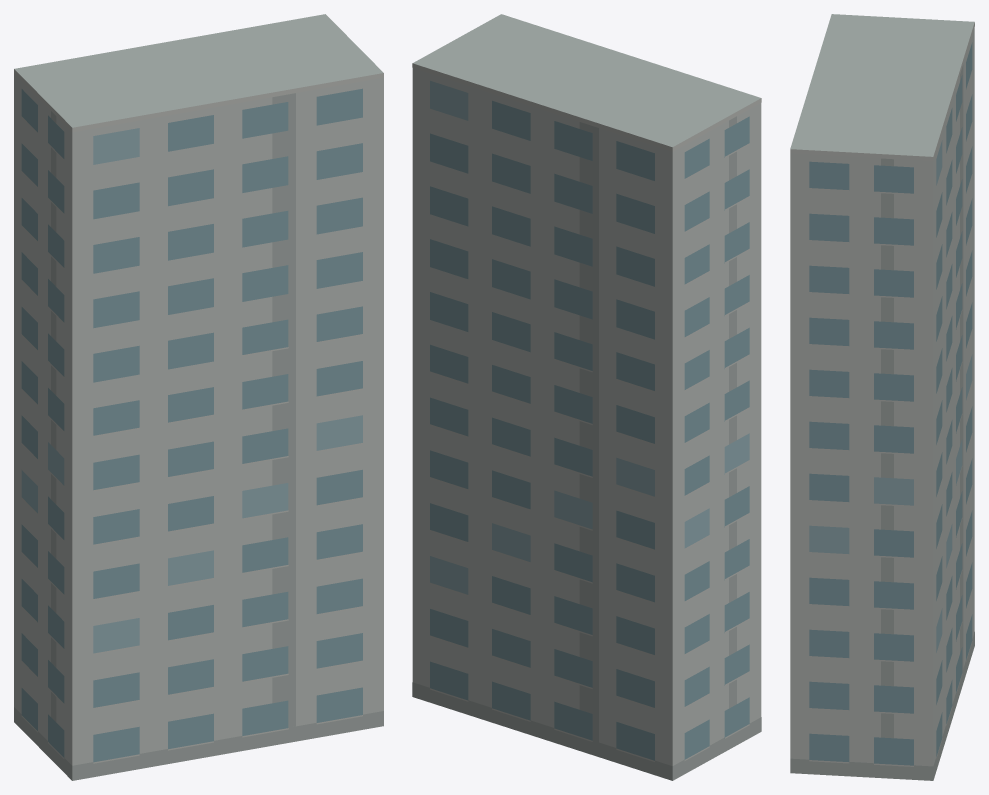
File: residential-b543431d-3fca-438f-bd01-aa3f8066cf87.glb
3 renders of one model, left to right at view 1: azimuth 30°, elevation 25°; view 2: azimuth 150°, elevation 25°; view 3: azimuth 270°, elevation 25°, orthographic. The views are drawn at different scales.
Parts seen in each view (by area): view 1: residential-b543431d-3fca-438f-bd01-aa3f8066cf87.tmp; view 2: residential-b543431d-3fca-438f-bd01-aa3f8066cf87.tmp; view 3: residential-b543431d-3fca-438f-bd01-aa3f8066cf87.tmp.
Boxes of the visible parts, <box> form: residential-b543431d-3fca-438f-bd01-aa3f8066cf87.tmp: <box>14,14,383,780</box>; residential-b543431d-3fca-438f-bd01-aa3f8066cf87.tmp: <box>412,14,761,780</box>; residential-b543431d-3fca-438f-bd01-aa3f8066cf87.tmp: <box>790,14,974,780</box>.
Bounding box in the file's own units: 16.71 × 34 × 9.13.
